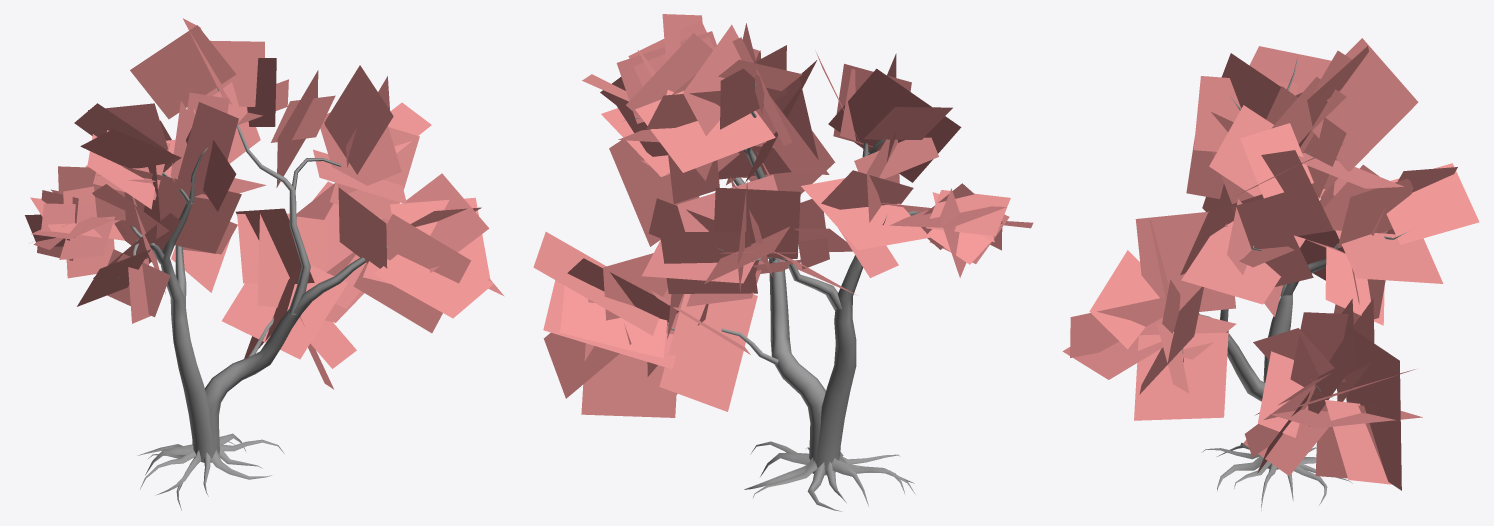
Rendered from reddesertpack_JuniperTree03_SM.gltf.
3 renders of one model, left to right at view 1: azimuth 30°, elevation 25°; view 2: azimuth 150°, elevation 25°; view 3: azimuth 270°, elevation 25°, orthographic. The views are drawn at different scales.
Visible parts, largest first — view 1: reddesertpack_JuniperTree03_SM; view 2: reddesertpack_JuniperTree03_SM; view 3: reddesertpack_JuniperTree03_SM.
Part boxes in pixels (<box>): reddesertpack_JuniperTree03_SM: <box>25,18,504,510</box>; reddesertpack_JuniperTree03_SM: <box>533,14,1033,511</box>; reddesertpack_JuniperTree03_SM: <box>1062,38,1479,510</box>.
Bounding box in the file's own units: 6.79 × 6.74 × 5.58.
